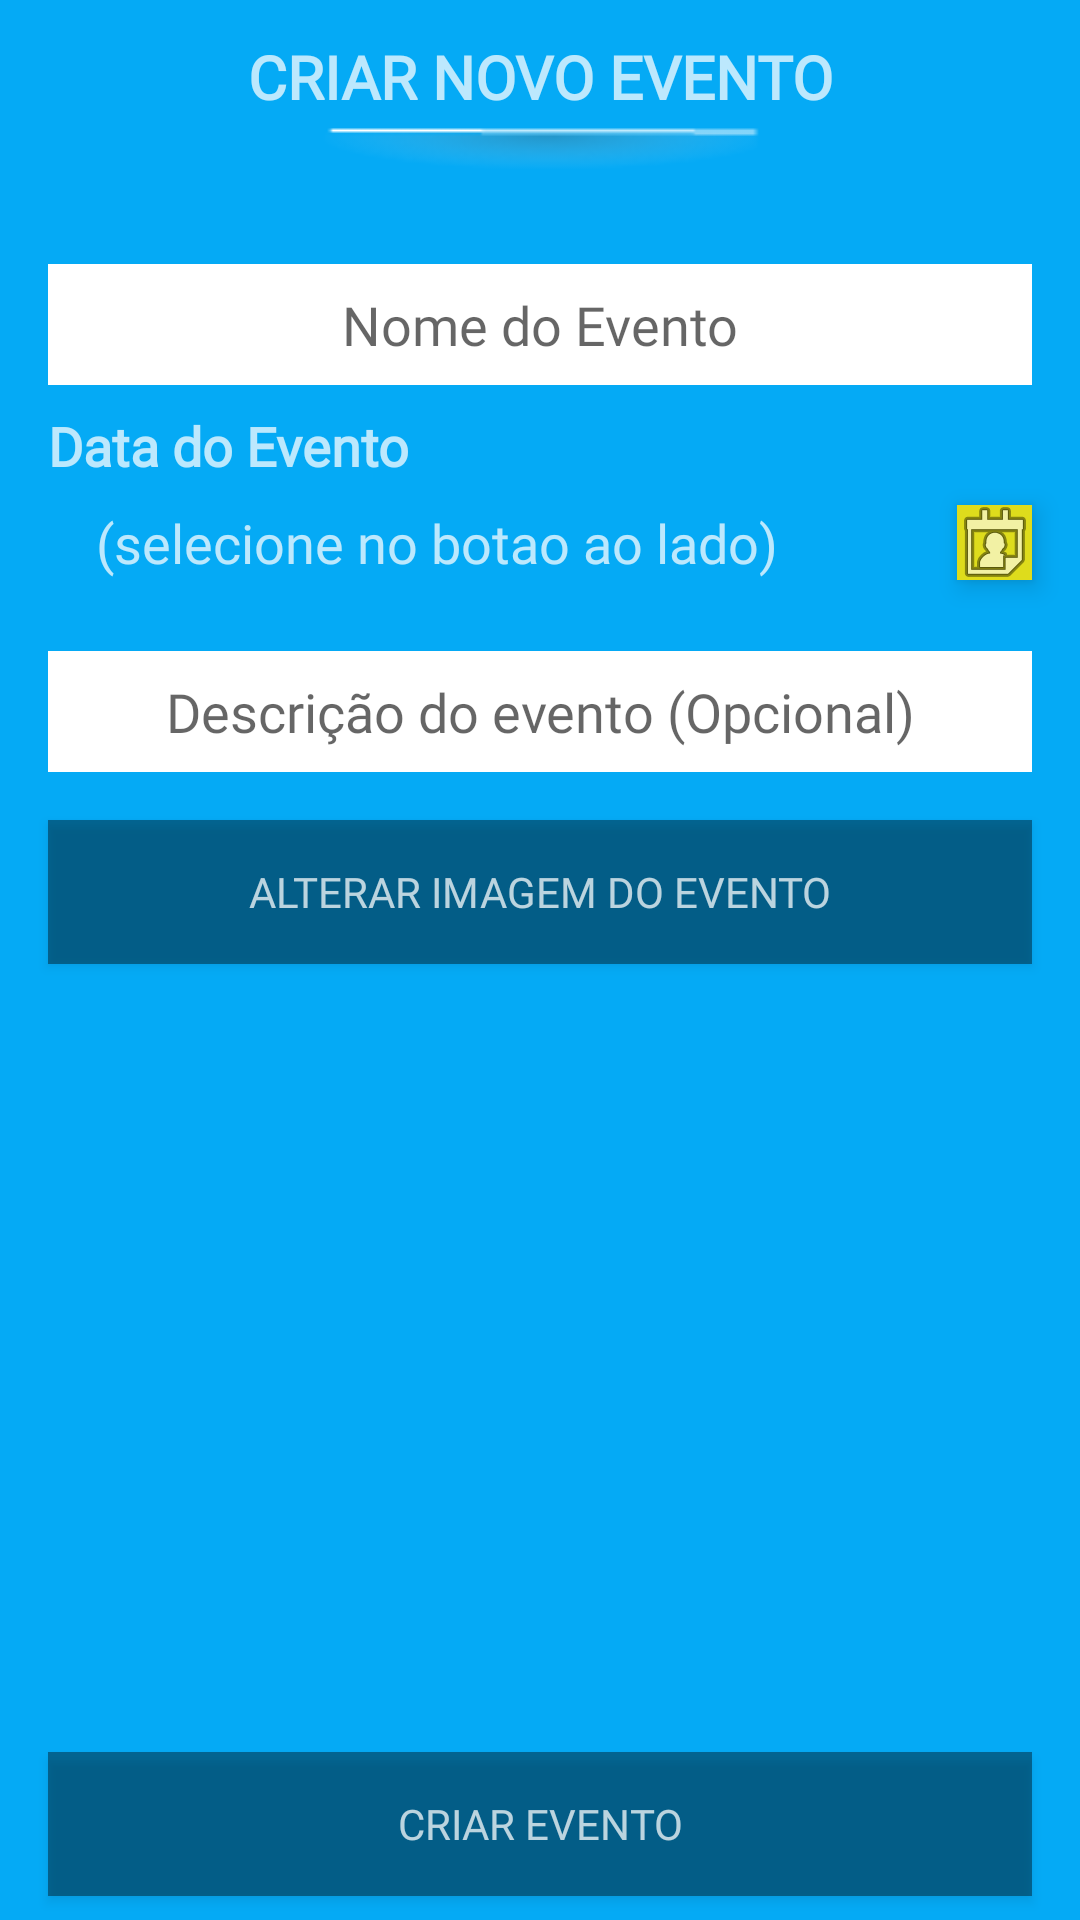

Icon click points for this 1080w x 1920h phone screenshot, format point (x, y):
calendar: point (994, 542)
